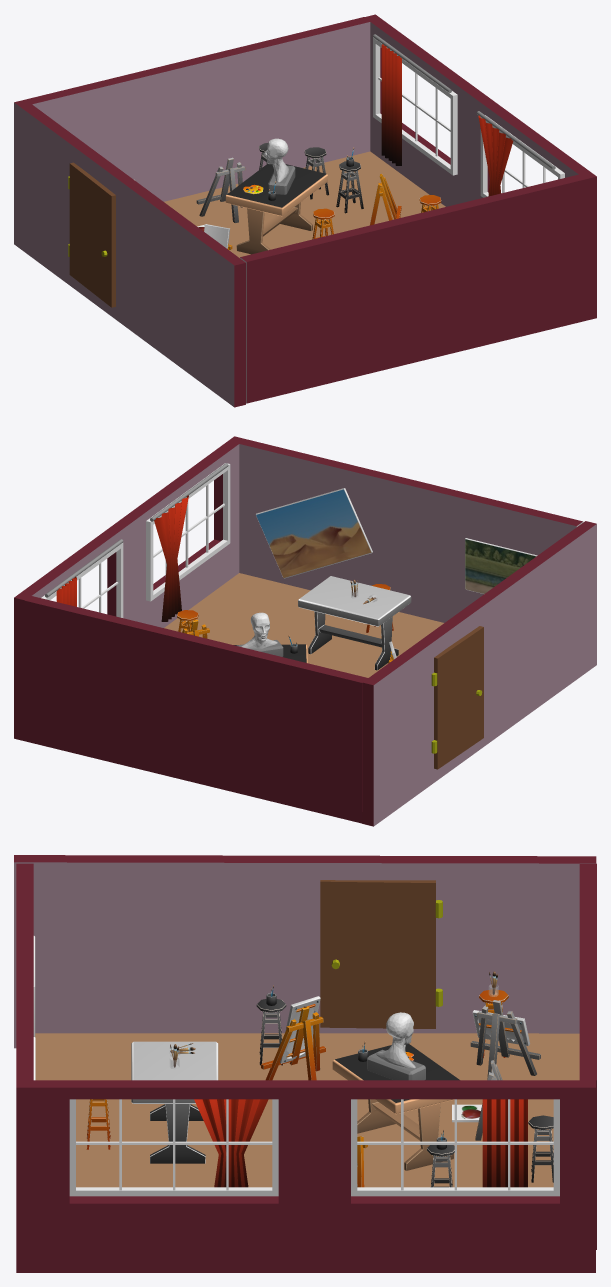
File: art.glb
3 renders of one model, top to bottom at view 1: azimuth 30°, elevation 25°; view 2: azimuth 150°, elevation 25°; view 3: azimuth 270°, elevation 25°, orthographic. The views are drawn at different scales.
Visible parts, largest first — view 1: Дверь.001; view 2: Дверь.001; view 3: Дверь.001.
Part boxes in pixels (left/top/right/bottom): Дверь.001: left=14, top=14, right=596, bottom=407; Дверь.001: left=14, top=436, right=596, bottom=826; Дверь.001: left=14, top=855, right=596, bottom=1272.
Size of the model in its own units: 9.7 by 3.55 by 10.08.
Materials: 8 (3 with a texture image).
